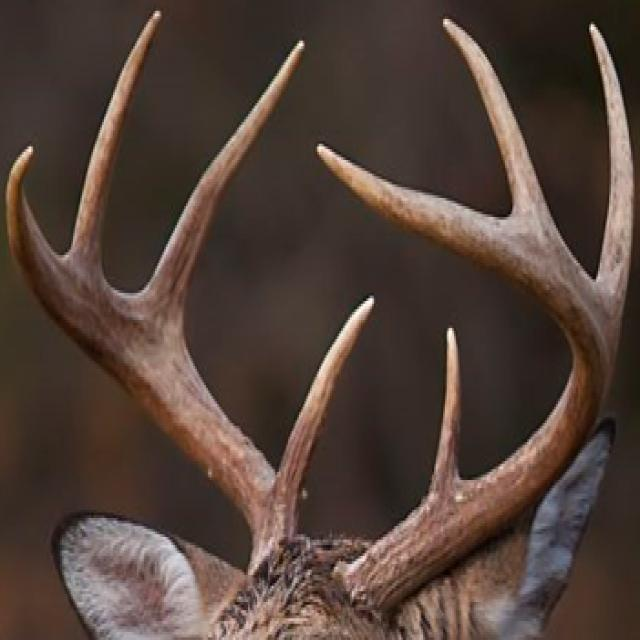L-F: (313, 141, 621, 618)
L-G1: (423, 324, 463, 496)
L-G2: (587, 20, 636, 331)
L-G3: (440, 14, 563, 240)
R-F: (3, 143, 301, 575)
R-G1: (276, 292, 378, 506)
R-G2: (136, 37, 307, 355)
R-G3: (66, 6, 165, 278)
